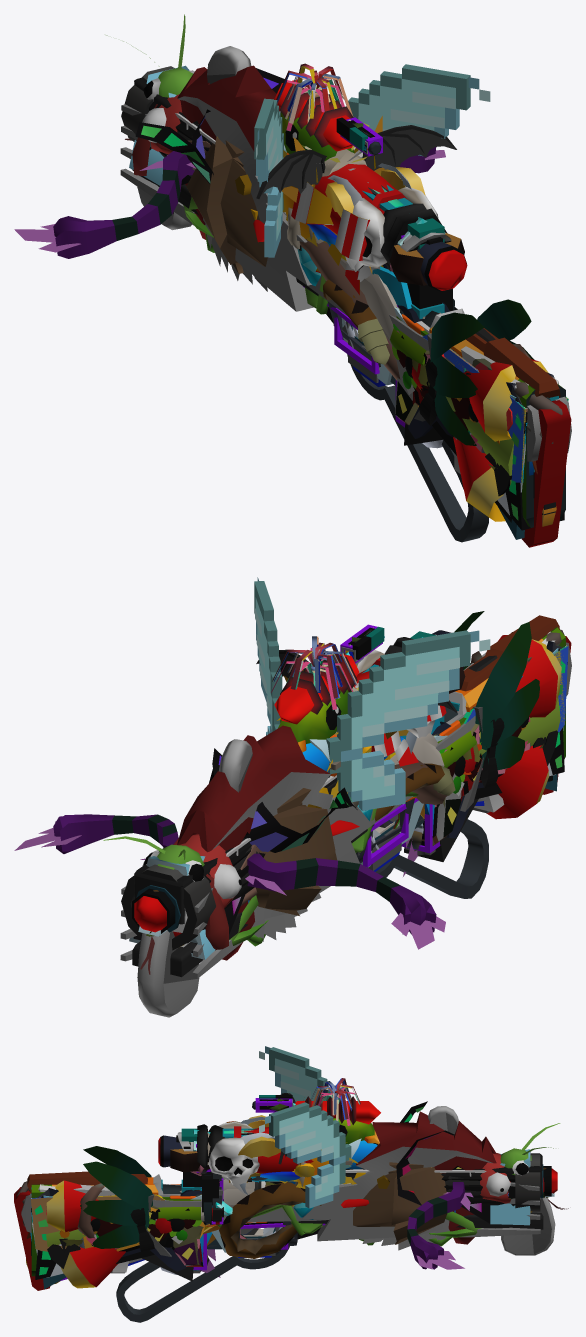
Rendered from gun_m24.glb.
3 renders of one model, top to bottom at view 1: azimuth 30°, elevation 25°; view 2: azimuth 150°, elevation 25°; view 3: azimuth 270°, elevation 25°, orthographic. The views are drawn at different scales.
Parts seen in each view (by area): view 1: gun_m24_Chicken, gun_m24_Retro, gun_m24_Kart, gun_m24_Turkey, gun_m24_RaidLand, gun_m24_Badegg, gun_m24_Quackshot, gun_m24_Halloween, gun_m24_Techno, gun_m24_Meno, gun_m24_Snake, gun_m24_Bones (+22 smaller); view 2: gun_m24_Retro, gun_m24_Chicken, gun_m24_RaidLand, gun_m24_Turkey, gun_m24_Kart, gun_m24_Sports, gun_m24_Badegg, gun_m24_Techno, gun_m24_Quackshot, gun_m24_Scavenger, gun_m24_Pencil, gun_m24_Cyborg (+19 smaller); view 3: gun_m24_Chicken, gun_m24_Retro, gun_m24_Turkey, gun_m24_Kart, gun_m24_Snake, gun_m24_Badegg, gun_m24_Techno, gun_m24_Quackshot, gun_m24_RaidLand, gun_m24_Sports, gun_m24_Bugs, gun_m24_Breakfast (+28 smaller).
Boxes of the visible parts, box(x1,y1,x2,y2) form: gun_m24_Chicken: box(177, 65, 534, 445); gun_m24_Retro: box(254, 64, 558, 498); gun_m24_Kart: box(253, 164, 548, 521); gun_m24_Turkey: box(132, 94, 482, 452); gun_m24_RaidLand: box(14, 143, 445, 258); gun_m24_Badegg: box(341, 255, 560, 542); gun_m24_Quackshot: box(280, 112, 565, 527); gun_m24_Halloween: box(256, 125, 456, 390); gun_m24_Techno: box(129, 65, 564, 530); gun_m24_Meno: box(402, 236, 571, 547); gun_m24_Snake: box(125, 138, 464, 364); gun_m24_Bones: box(287, 119, 440, 318); gun_m24_Retro: box(254, 577, 490, 870); gun_m24_Chicken: box(177, 611, 539, 960); gun_m24_RaidLand: box(14, 814, 445, 949); gun_m24_Turkey: box(142, 788, 336, 949); gun_m24_Kart: box(173, 635, 561, 936); gun_m24_Sports: box(137, 739, 252, 1017); gun_m24_Badegg: box(187, 615, 559, 943); gun_m24_Techno: box(129, 648, 567, 959); gun_m24_Quackshot: box(278, 627, 565, 838); gun_m24_Scavenger: box(121, 645, 566, 950); gun_m24_Pencil: box(132, 643, 381, 977); gun_m24_Cyborg: box(274, 654, 359, 724); gun_m24_Chicken: box(80, 1111, 496, 1250); gun_m24_Retro: box(31, 1046, 351, 1273); gun_m24_Turkey: box(186, 1153, 510, 1266); gun_m24_Kart: box(46, 1127, 368, 1288); gun_m24_Snake: box(170, 1149, 568, 1258); gun_m24_Badegg: box(26, 1171, 289, 1322); gun_m24_Techno: box(31, 1101, 530, 1279); gun_m24_Quackshot: box(31, 1118, 379, 1276); gun_m24_RaidLand: box(201, 1182, 473, 1277); gun_m24_Sports: box(428, 1106, 555, 1255); gun_m24_Bugs: box(203, 1123, 560, 1254); gun_m24_Breakfast: box(21, 1182, 540, 1237).
Bounding box in the file's own units: 0.3523 × 0.2981 × 0.6322.
